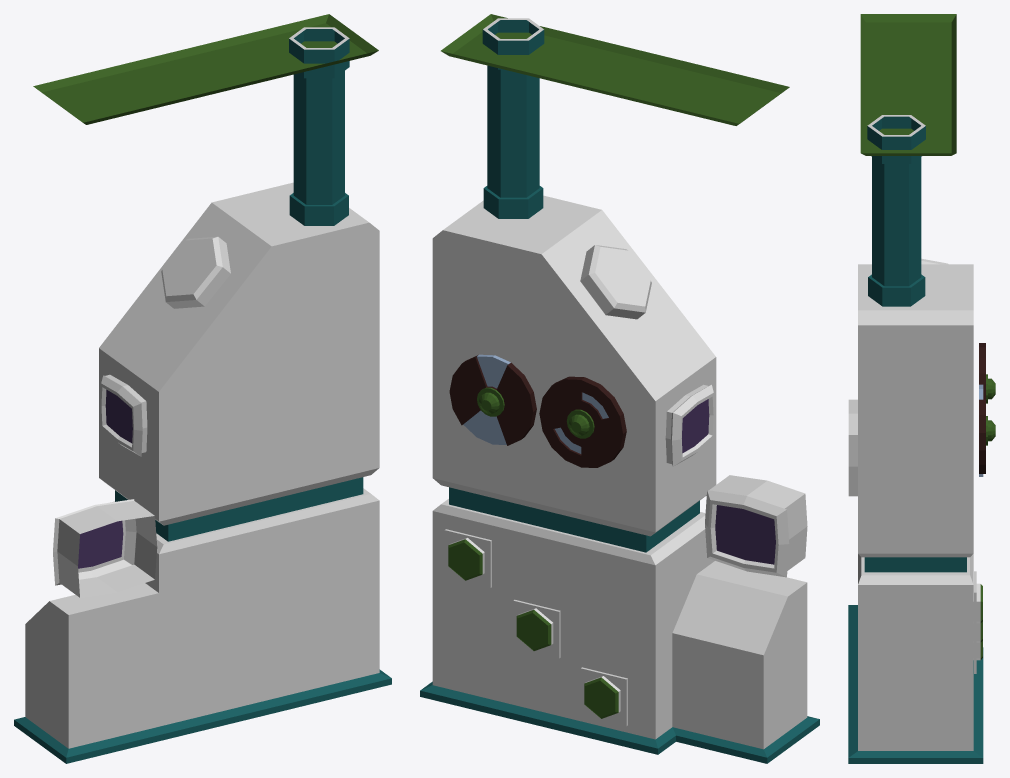
The model's file is tomb_recorder_mirror.fbx.
3 renders of one model, left to right at view 1: azimuth 30°, elevation 25°; view 2: azimuth 150°, elevation 25°; view 3: azimuth 270°, elevation 25°, orthographic. The views are drawn at different scales.
Parts seen in each view (by area): view 1: wire_panel1.003 T5.001; view 2: wire_panel1.003 T5.001; view 3: wire_panel1.003 T5.001.
Part boxes in pixels (x1,y1,x2,y2): wire_panel1.003 T5.001: [14, 14, 391, 763]; wire_panel1.003 T5.001: [420, 14, 819, 763]; wire_panel1.003 T5.001: [848, 14, 995, 763].
Size of the model in its own units: 295 by 554 by 120.
